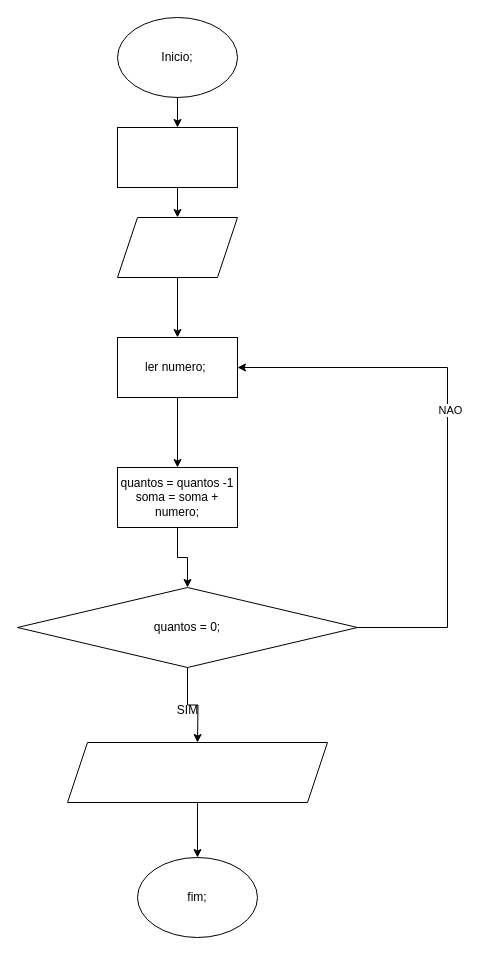
This 479x955 diagram has some shape labels left out. The shapes that lost their labels are listed below. From the top down, each one's centre as x and y in pixels, then its label:
(177,157): soma = 0;
(177,247): ler quantos;
(197,772): Escrever "A soma dos numeros e: " + soma;
